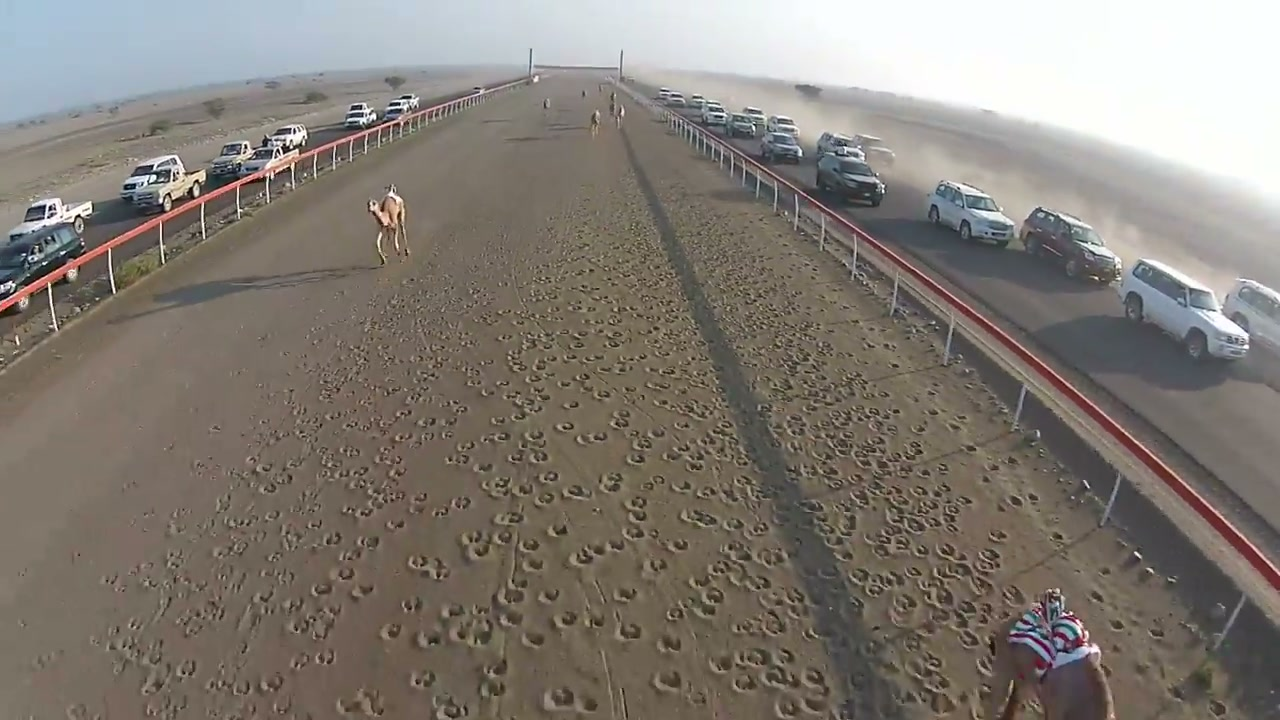animal_foot_print: (32, 124, 1239, 719)
